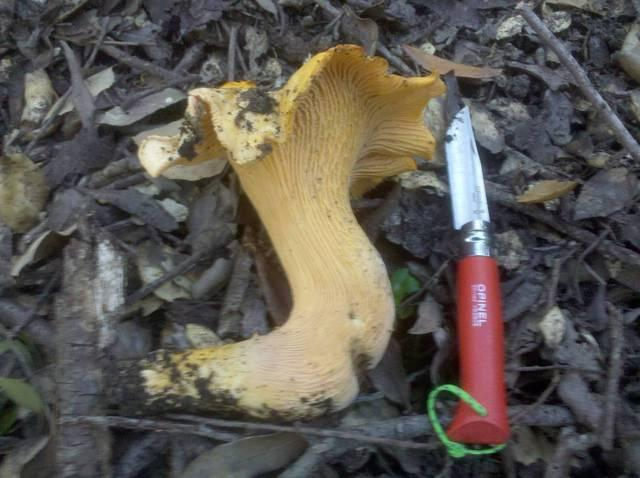Edible Mushroom: (112, 41, 447, 422)
